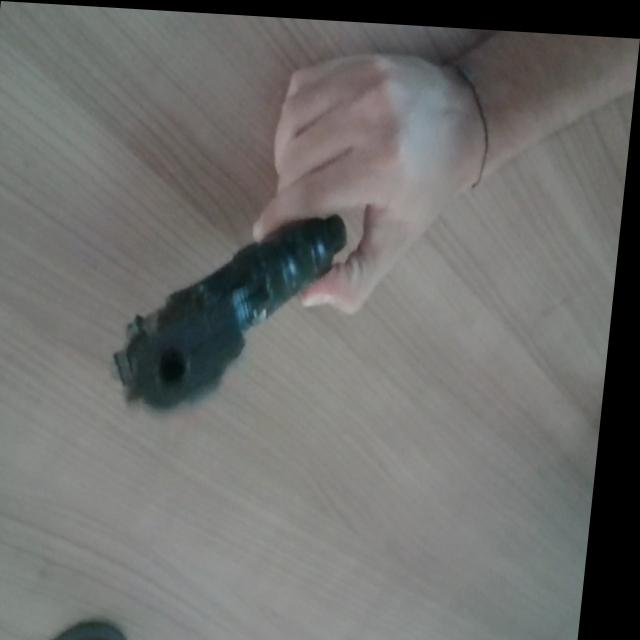handgun: (109, 185, 376, 444)
